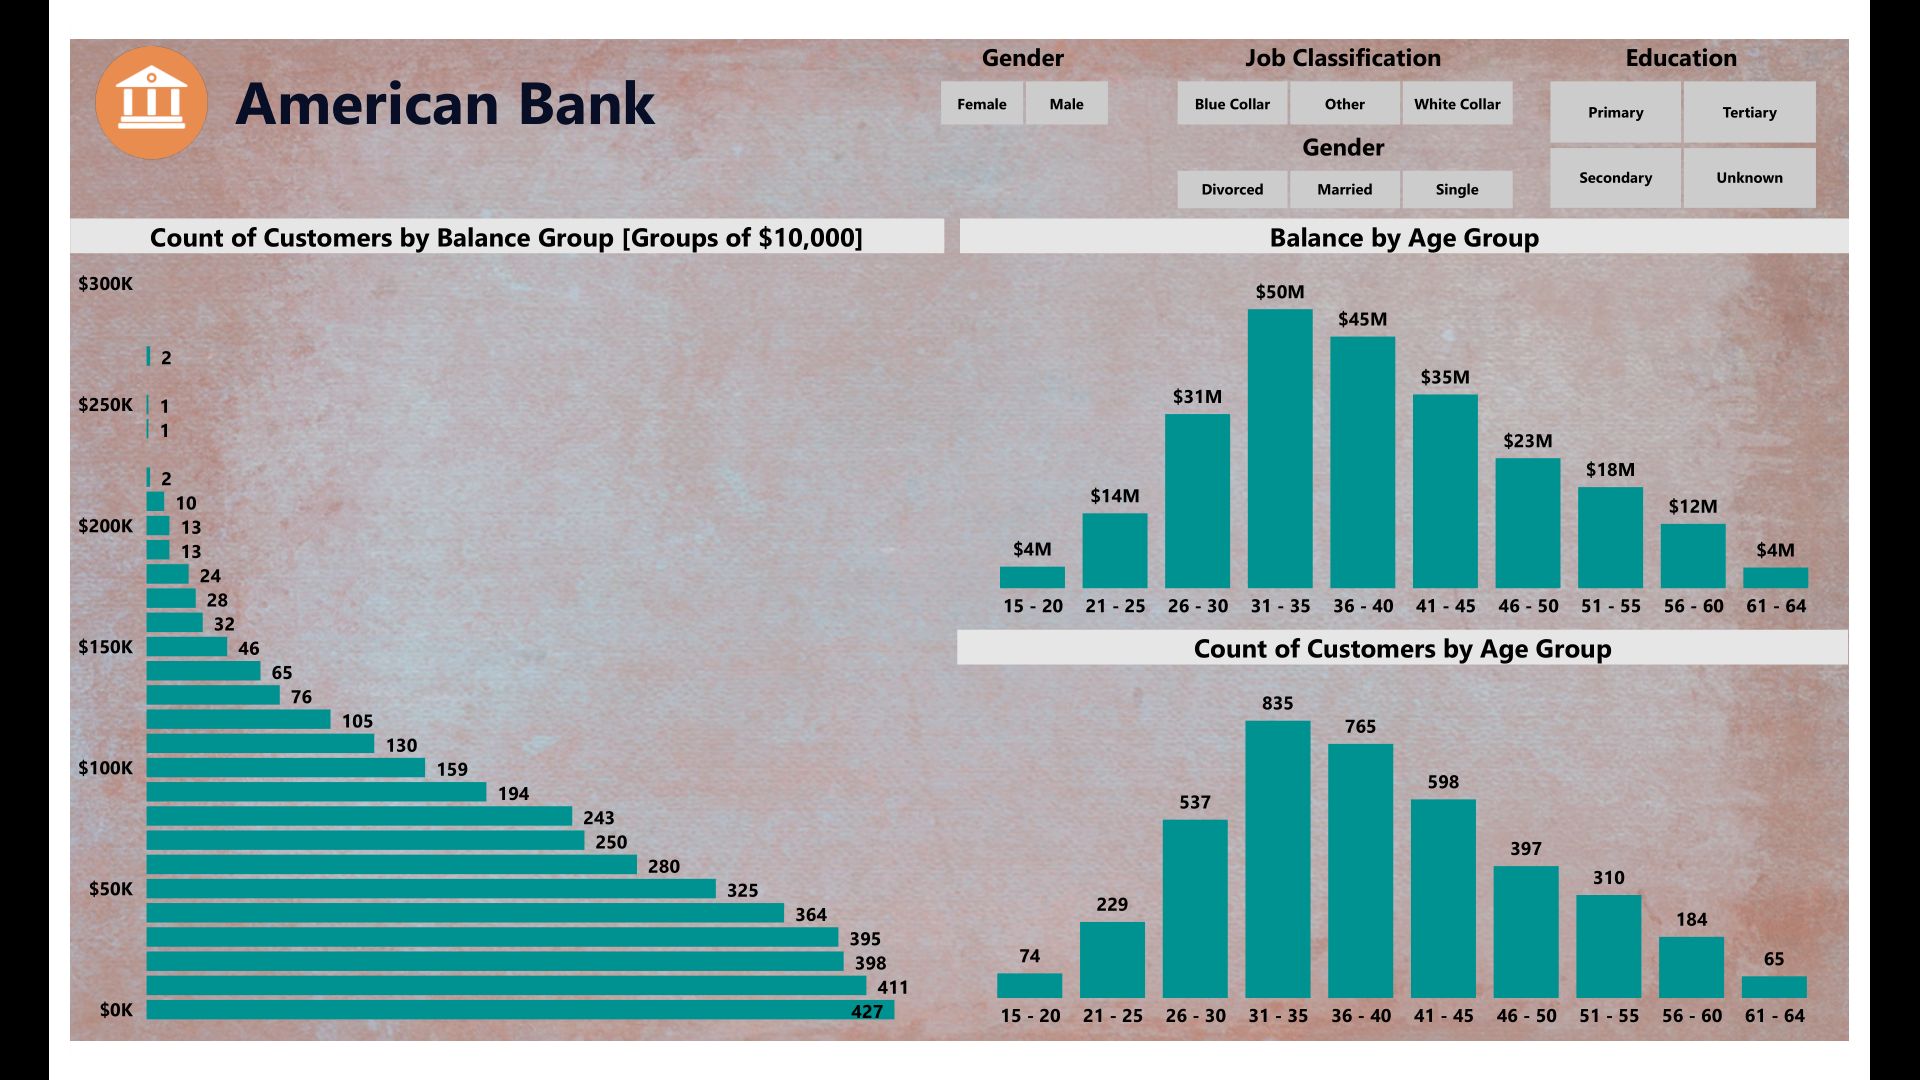

The dashboard page shown, as its layout file describes it:
{"tool":"powerbi","page":{"name":"Age Groups and Balance Groups","canvas":[1280,720],"ordinal":1},"visuals":[{"type":"image","box":[10.3,0,95.5,91.4],"z":0},{"type":"textbox","box":[114,10.3,322.6,71.9],"z":1000},{"type":"slicer","title":"Education","fields":{"Values":["AmericaBankNew.Education"]},"box":[1039.4,0,240.6,128.2],"z":2000},{"type":"clusteredColumnChart","title":"Balance by Age Group","fields":{"Y":["Sum(AmericaBankNew.Balance)"],"Category":["AmericaBankNew.Age (groups)"]},"box":[640,128.2,640,297],"z":3000},{"type":"clusteredBarChart","title":"Count of Customers by Balance Group [Groups of $10,000]","fields":{"Category":["AmericaBankNew.Balance Groups"],"Y":["CountNonNull(AmericaBankNew.Customer ID)"]},"box":[0,128.2,629,591.1],"z":4000},{"type":"clusteredColumnChart","title":"Count of Customers by Age Group","fields":{"Y":["CountNonNull(AmericaBankNew.Customer ID)"],"Category":["AmericaBankNew.Age Groups"]},"box":[638.8,425,641.2,295.6],"z":5000},{"type":"slicer","title":"Gender","fields":{"Values":["AmericaBankNew.Gender"]},"box":[600.9,0,169.8,68.4],"z":6000},{"type":"slicer","title":"Job Classification","fields":{"Values":["AmericaBankNew.Job Classification"]},"box":[770.7,0,290.7,68.4],"z":7000},{"type":"slicer","title":"Gender","fields":{"Values":["AmericaBankNew.Marital Status"]},"box":[770.7,64.7,290.7,63.5],"z":8000}]}

Visuals, with their boxes in screenshot pixels (x1, y1, x2, y2), scaled from the page's 1280x720 canvas onto the 1920x1080 screenshot:
image: 15 0 159 137
textbox: 171 15 655 123
"Education" slicer: 1559 0 1919 192
"Balance by Age Group" clusteredColumnChart: 960 192 1919 638
"Count of Customers by Balance Group [Groups of $10,000]" clusteredBarChart: 0 192 944 1079
"Count of Customers by Age Group" clusteredColumnChart: 958 638 1919 1079
"Gender" slicer: 901 0 1156 103
"Job Classification" slicer: 1156 0 1592 103
"Gender" slicer: 1156 97 1592 192
